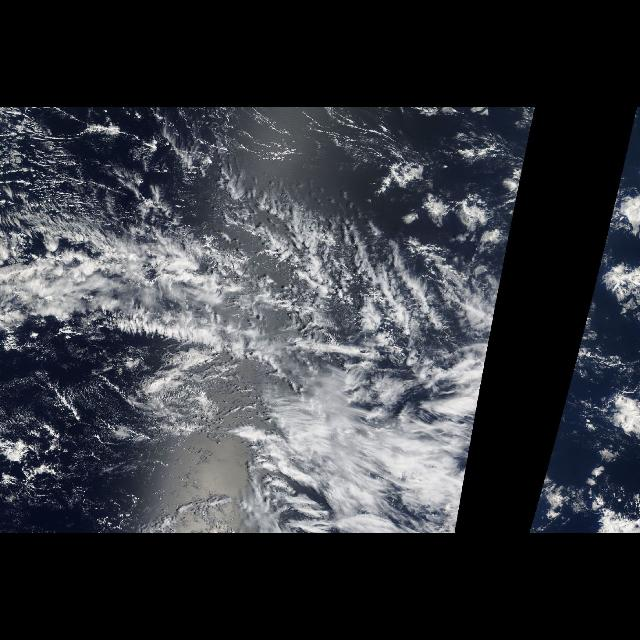Fish: (9, 190, 474, 376)
Flower: (374, 126, 530, 250)
